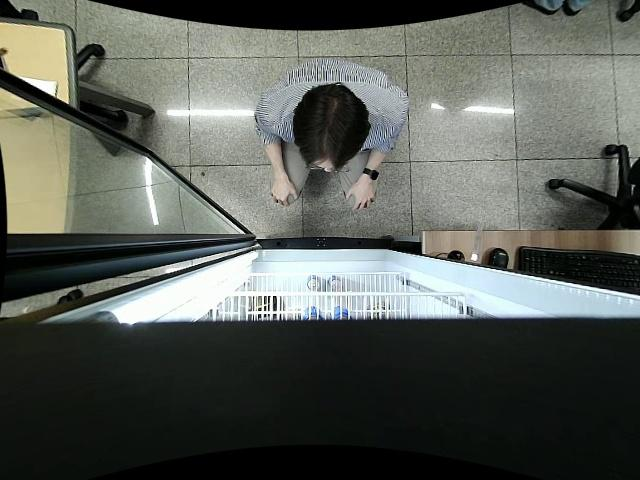00_hand: (348, 180, 378, 209), (272, 181, 299, 205)
